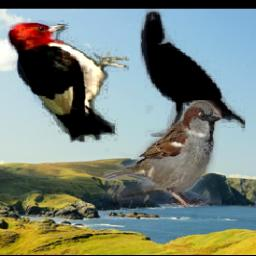Crow: (138, 9, 245, 137)
Sparrow: (103, 101, 222, 208)
Woodpecker: (4, 21, 129, 143)
